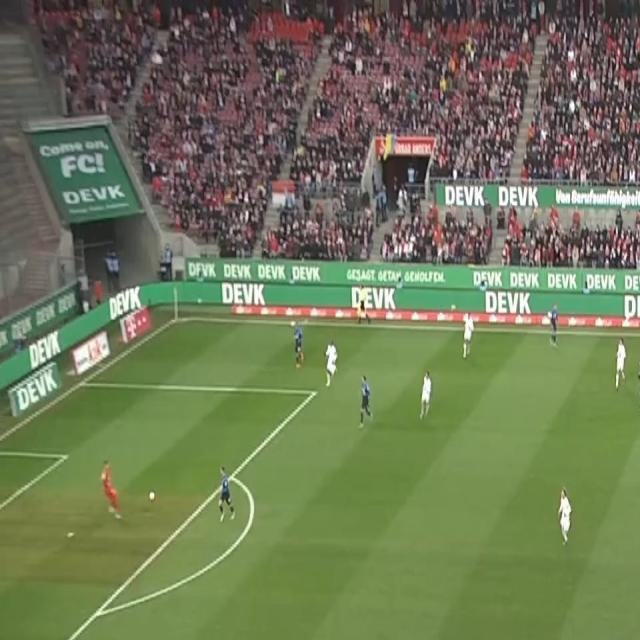ball: (149, 491, 155, 502)
